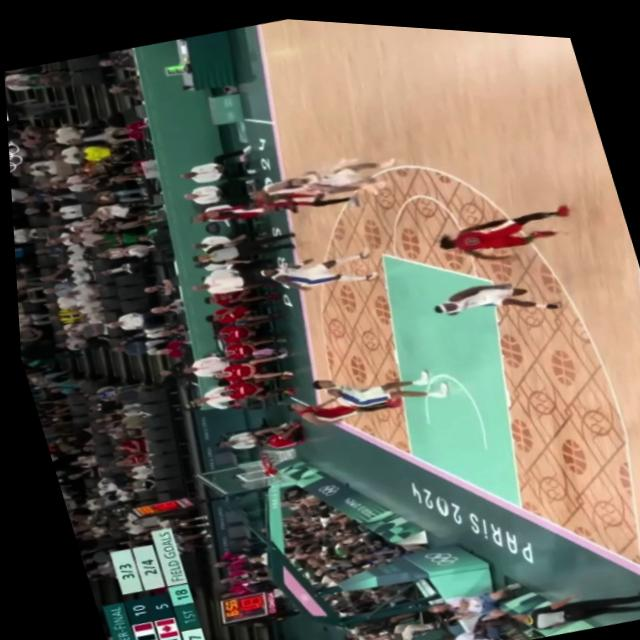ball_handler: (428, 187, 579, 268)
